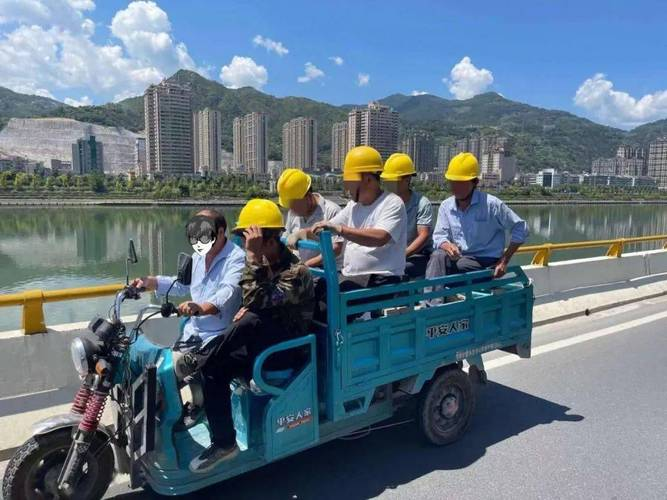driver: (167, 205, 235, 432)
overloading: (38, 157, 558, 500)
passenger: (218, 200, 315, 427), (327, 142, 414, 304), (438, 147, 524, 291), (375, 142, 439, 268), (272, 170, 337, 240)
